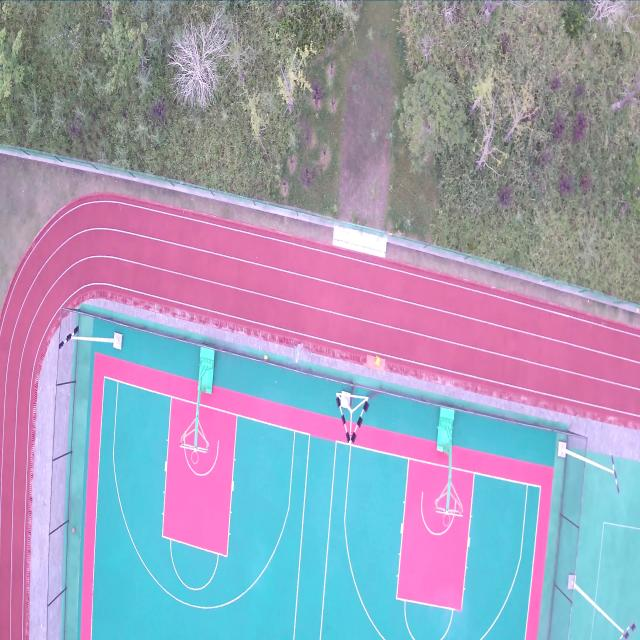UAV: (287, 340, 308, 373)
